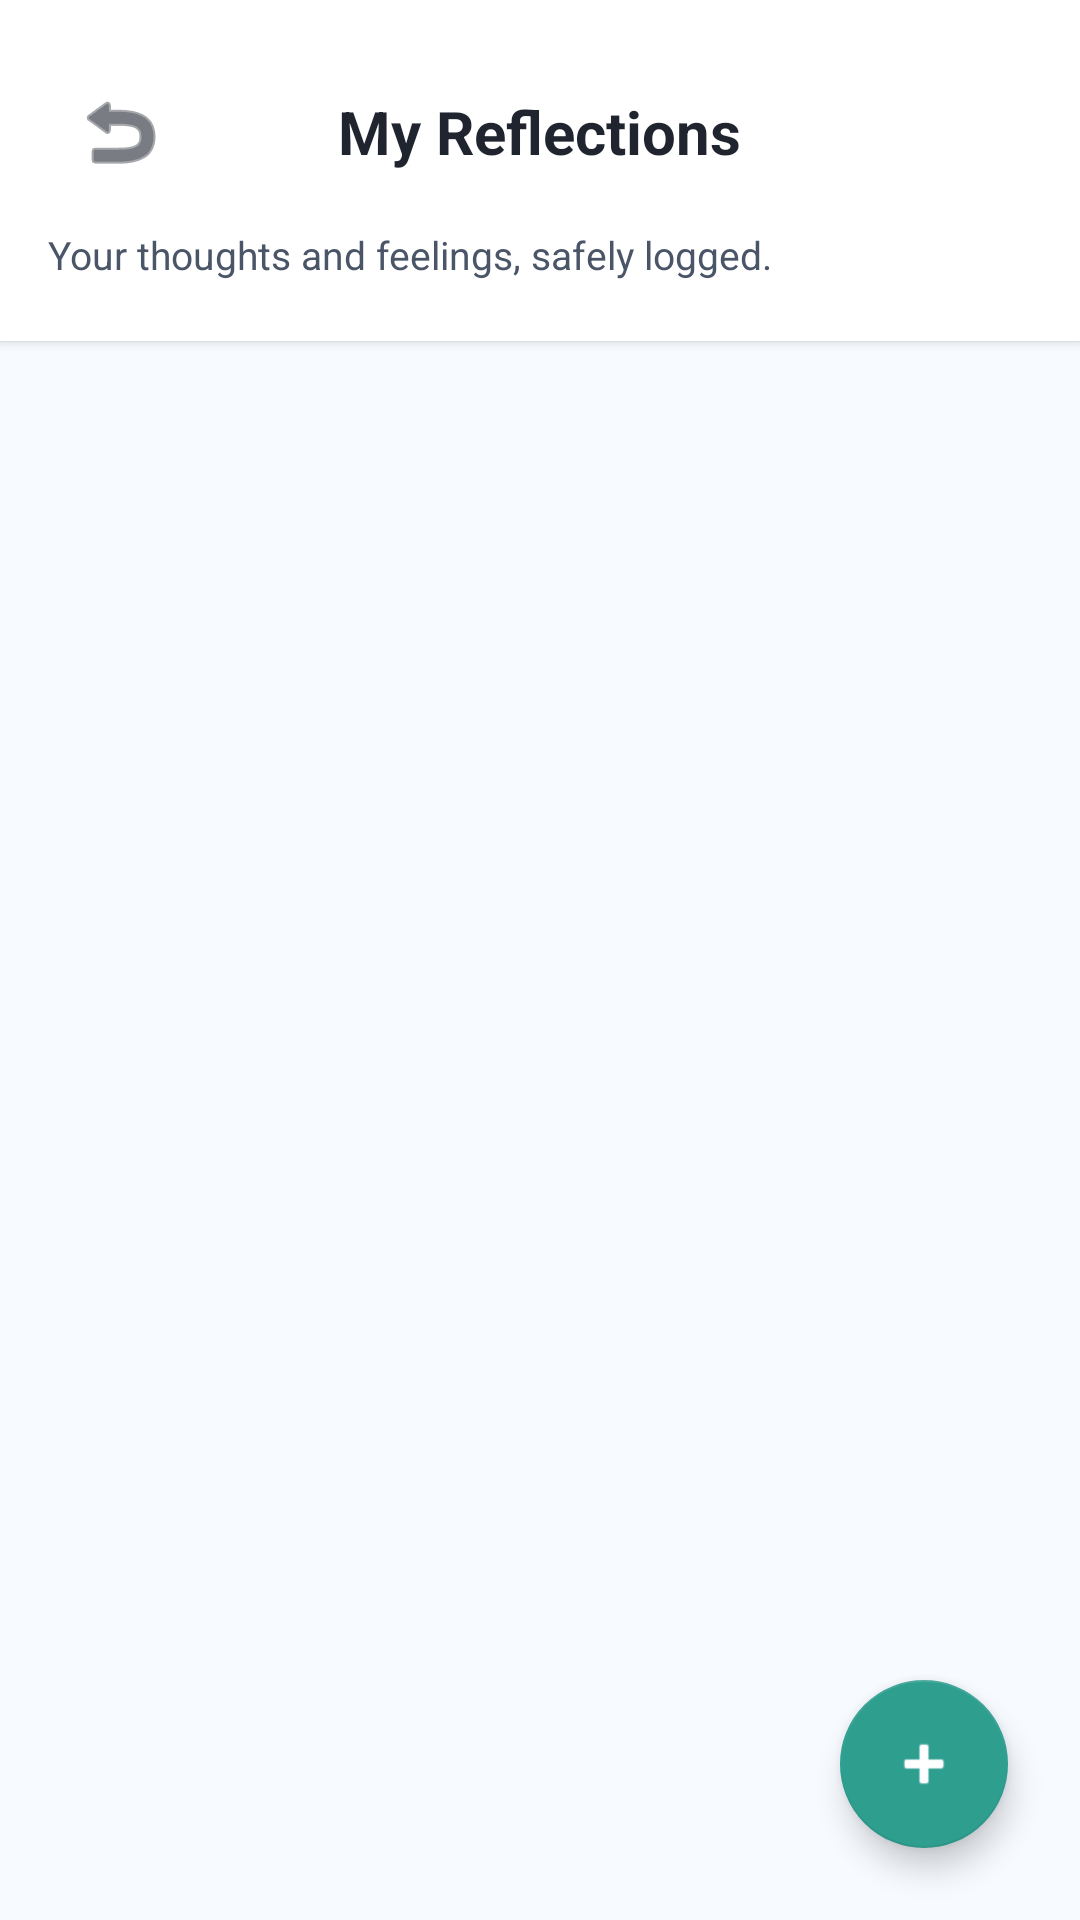

Icons on this 1080px x 1920px Android screen, each with its box as box(x1, y1, x2, y2):
Back: box(87, 101, 156, 164)
New Journal: box(840, 1680, 1008, 1848)
